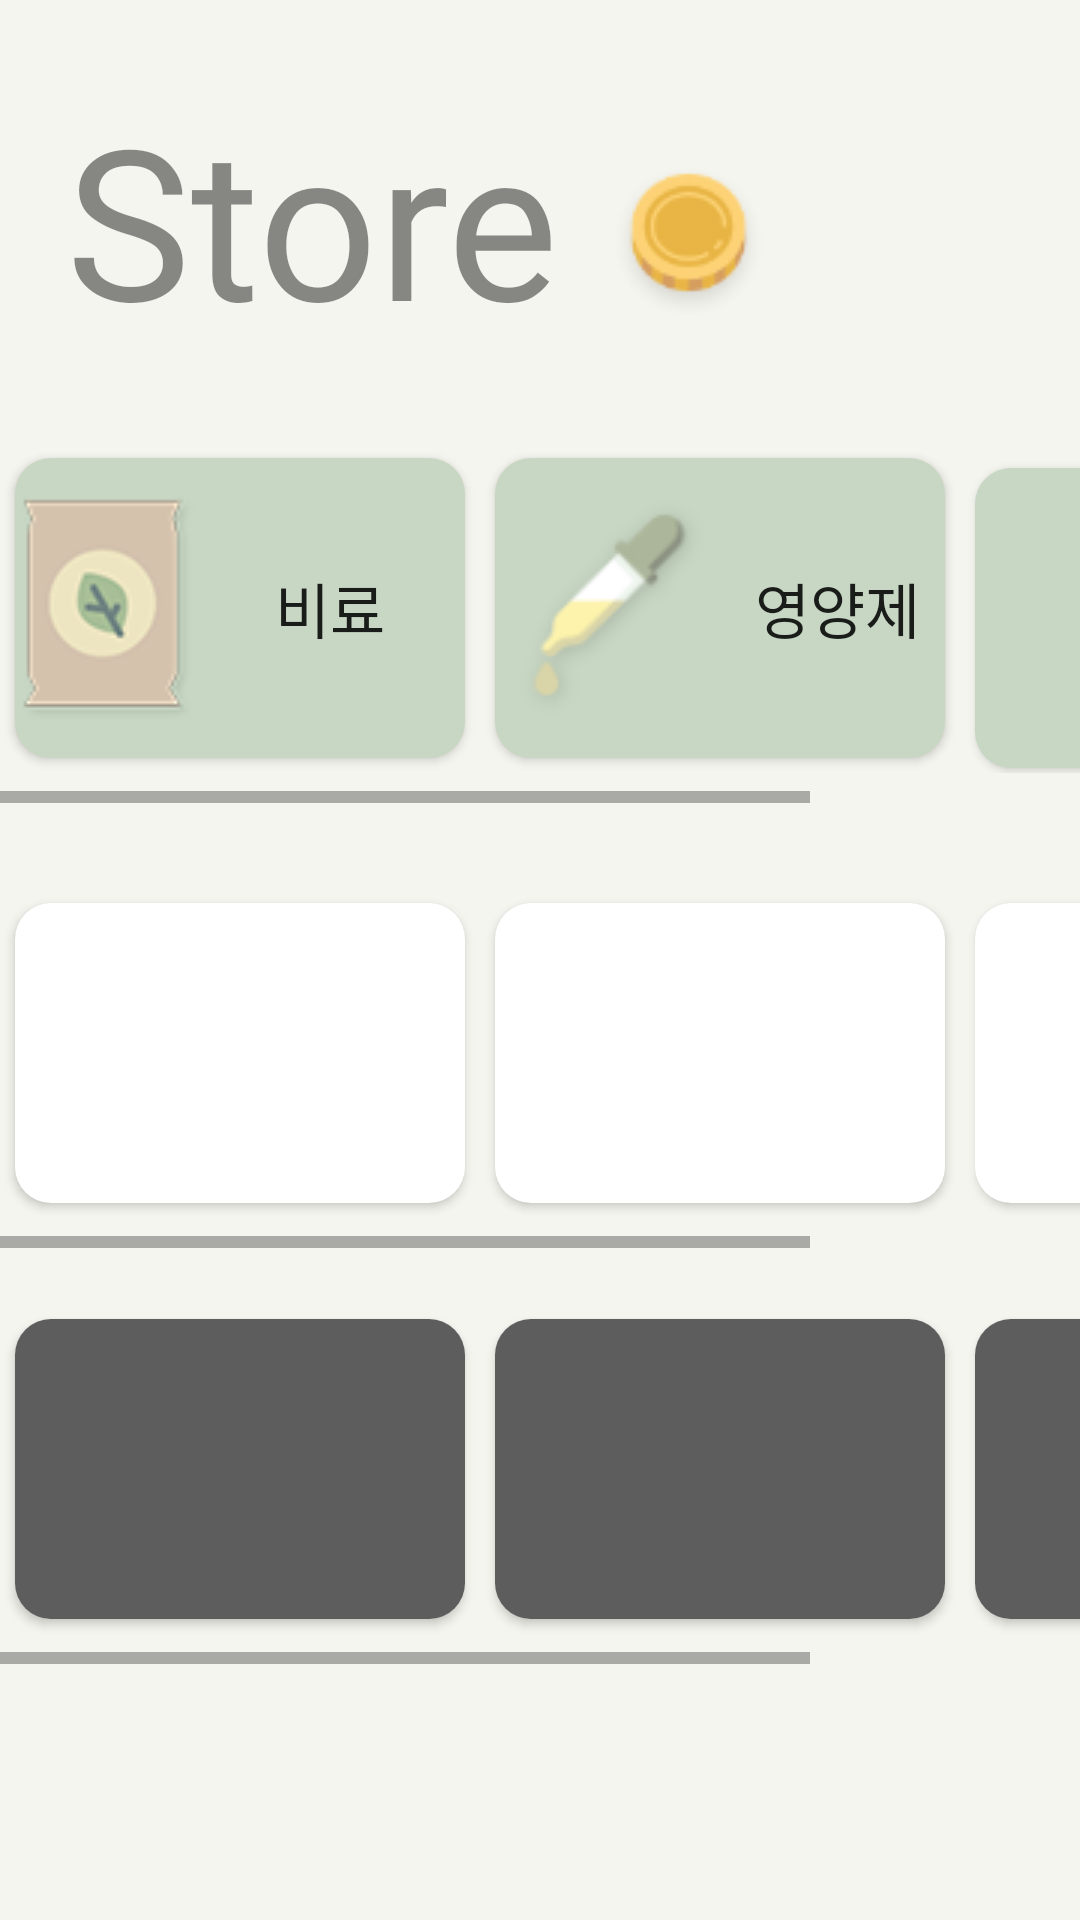

Point at icon controls on the screen. Image size 1080px x 1920px, points as (x=x, y=y).
coin: (x=688, y=232)
